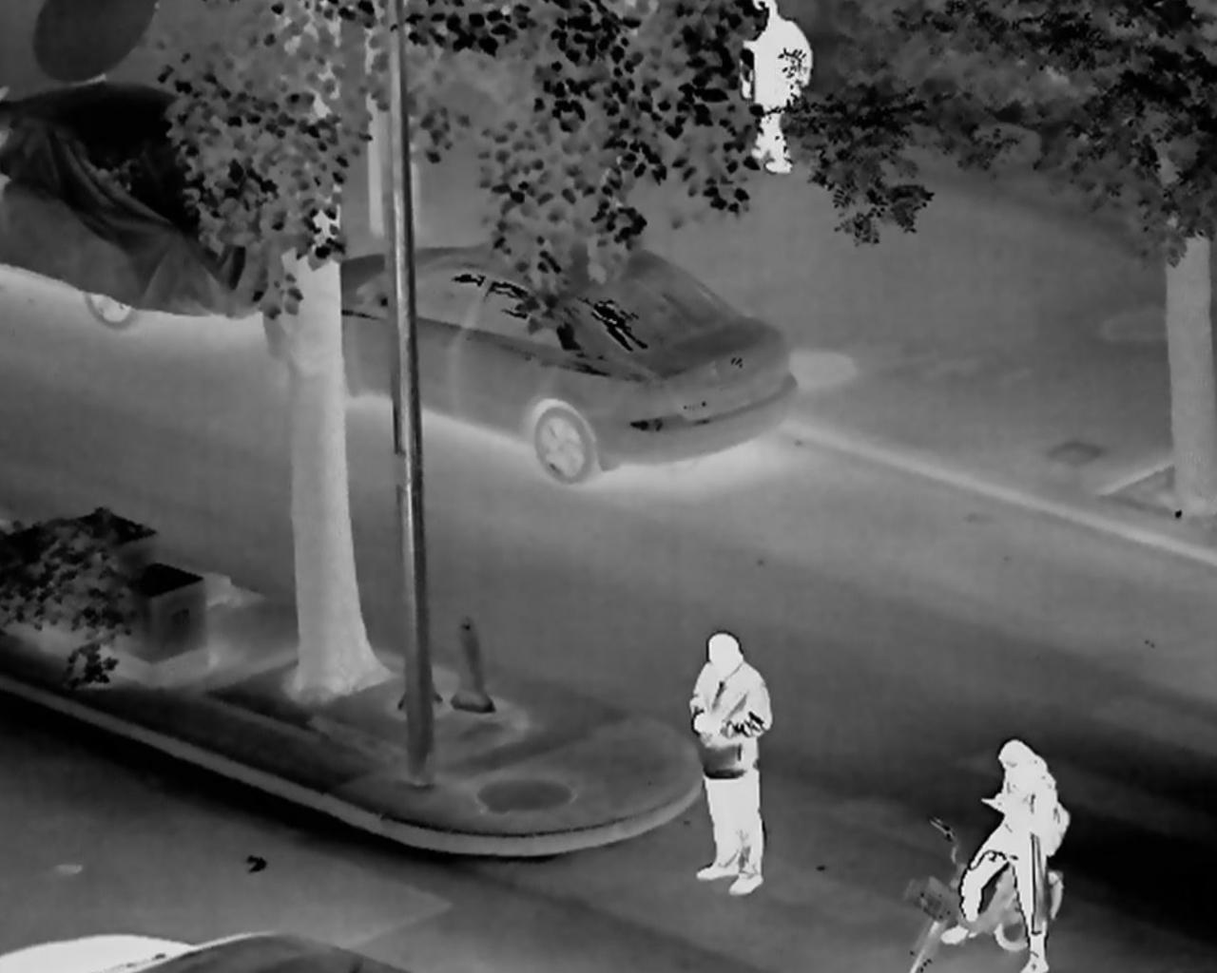person: (940, 735, 1066, 973), (689, 633, 775, 898)
